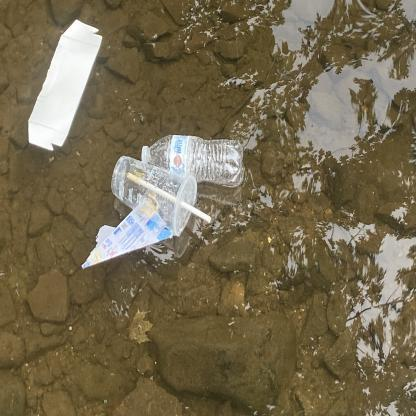trash: (27, 17, 104, 154), (112, 156, 213, 236), (80, 197, 174, 272), (142, 134, 243, 186)
